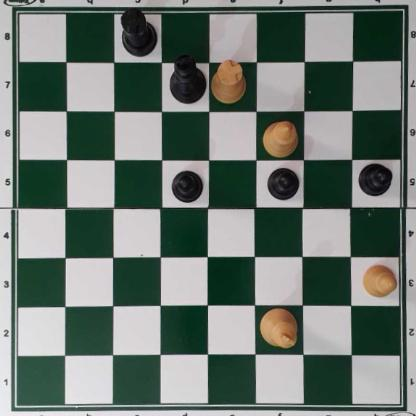black-king: (169, 53, 206, 104)
black-pawn: (357, 160, 392, 196), (170, 168, 204, 203), (266, 166, 300, 200)
black-rook: (118, 8, 159, 56)
white-bishop: (262, 119, 298, 158)
white-king: (260, 305, 299, 349)
white-pawn: (360, 261, 397, 298)
white-rook: (211, 60, 247, 104)
